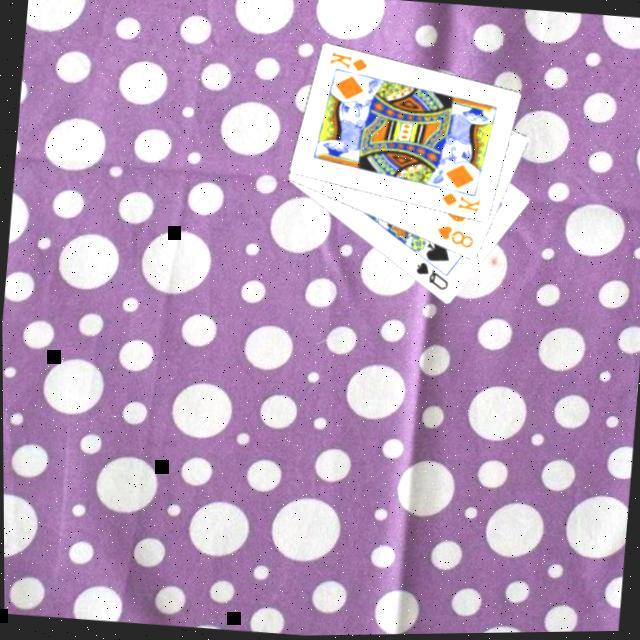8H: (432, 223, 478, 256)
KD: (436, 190, 484, 220), (326, 50, 372, 79)
QS: (410, 261, 453, 297)
